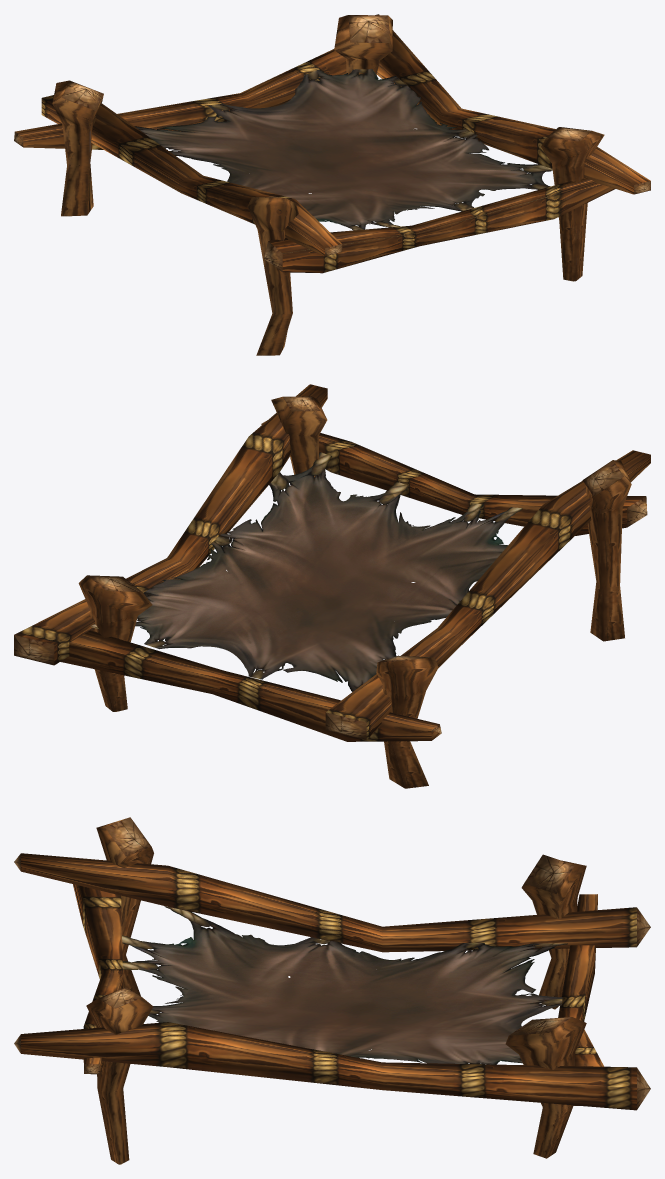
File: blackrockstretchedskin01.obj
3 views of the same model, one above another, from view 1: azimuth 30°, elevation 25°; view 2: azimuth 150°, elevation 25°; view 3: azimuth 270°, elevation 25° (orthographic). The views are drawn at different scales.
Parts seen in each view (by area): view 1: Geoset1, Geoset0; view 2: Geoset1, Geoset0; view 3: Geoset1, Geoset0.
Boxes of the visible parts, box(x1,y1,x2,y2) form: Geoset1: box(14, 14, 650, 355); Geoset0: box(134, 69, 552, 230); Geoset1: box(14, 384, 650, 788); Geoset0: box(90, 452, 522, 691); Geoset1: box(14, 817, 650, 1164); Geoset0: box(122, 906, 567, 1064).
Bounding box in the file's own units: 4.03 × 1.58 × 5.05.
2 materials, 2 textured.
